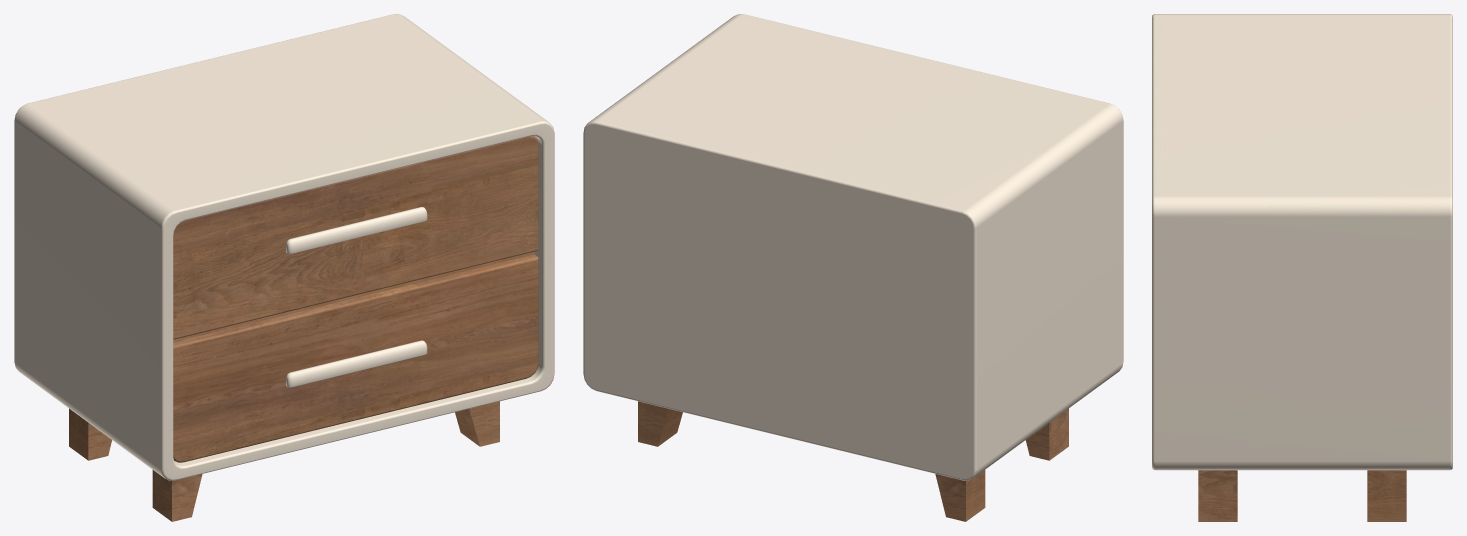
The model's file is bedside_drawer.glb.
3 renders of one model, left to right at view 1: azimuth 30°, elevation 25°; view 2: azimuth 150°, elevation 25°; view 3: azimuth 270°, elevation 25°, orthographic.
Parts seen in each view (by area): view 1: Bed_side_Drawer_3; view 2: Bed_side_Drawer_3; view 3: Bed_side_Drawer_3.
Boxes of the visible parts, x1,y1,x2,y2 form: Bed_side_Drawer_3: [14, 14, 554, 521]; Bed_side_Drawer_3: [583, 14, 1123, 521]; Bed_side_Drawer_3: [1152, 14, 1452, 521].
Bounding box in the file's own units: 0.6302 × 0.5081 × 0.413.
Materials: 1 (1 with a texture image).
